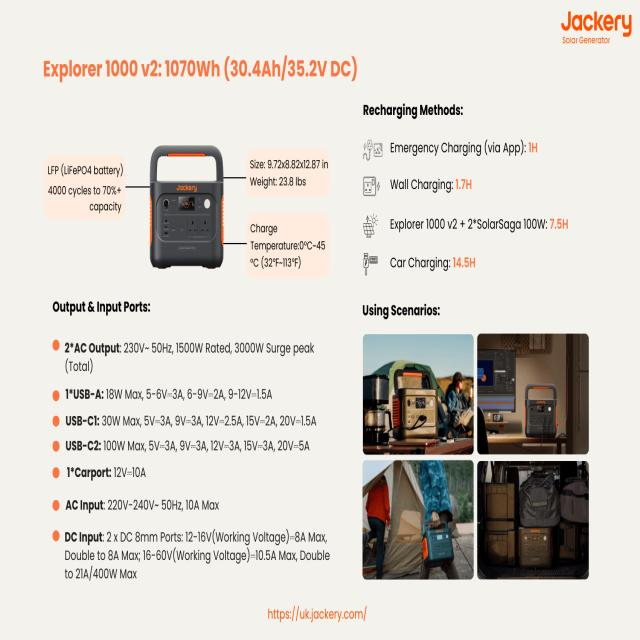electronics: (477, 460, 588, 578), (150, 146, 223, 268), (363, 364, 438, 443), (392, 369, 437, 439), (482, 482, 517, 566), (476, 350, 515, 414), (392, 388, 437, 439), (438, 377, 474, 438), (520, 472, 559, 526), (363, 375, 390, 444), (524, 384, 556, 437), (422, 521, 453, 568), (518, 527, 553, 568), (485, 520, 515, 566), (560, 476, 588, 523), (483, 484, 517, 520), (557, 459, 585, 495), (558, 521, 583, 561), (474, 409, 492, 454), (364, 409, 387, 443), (363, 374, 389, 404), (476, 409, 491, 454), (490, 462, 515, 483), (504, 463, 520, 494), (362, 139, 382, 160), (528, 332, 549, 351), (485, 414, 504, 434), (579, 524, 588, 561), (363, 252, 378, 274), (411, 393, 429, 409), (178, 196, 195, 212), (364, 177, 377, 196), (492, 463, 508, 478), (363, 139, 373, 160), (577, 460, 588, 479), (485, 423, 500, 436), (363, 222, 374, 238), (437, 434, 451, 443), (489, 412, 503, 421), (363, 252, 368, 275), (374, 143, 382, 156), (468, 386, 473, 405), (483, 412, 492, 421), (366, 139, 372, 151), (370, 256, 378, 264), (564, 481, 574, 486), (515, 470, 519, 479), (407, 403, 408, 405), (443, 394, 444, 394)
